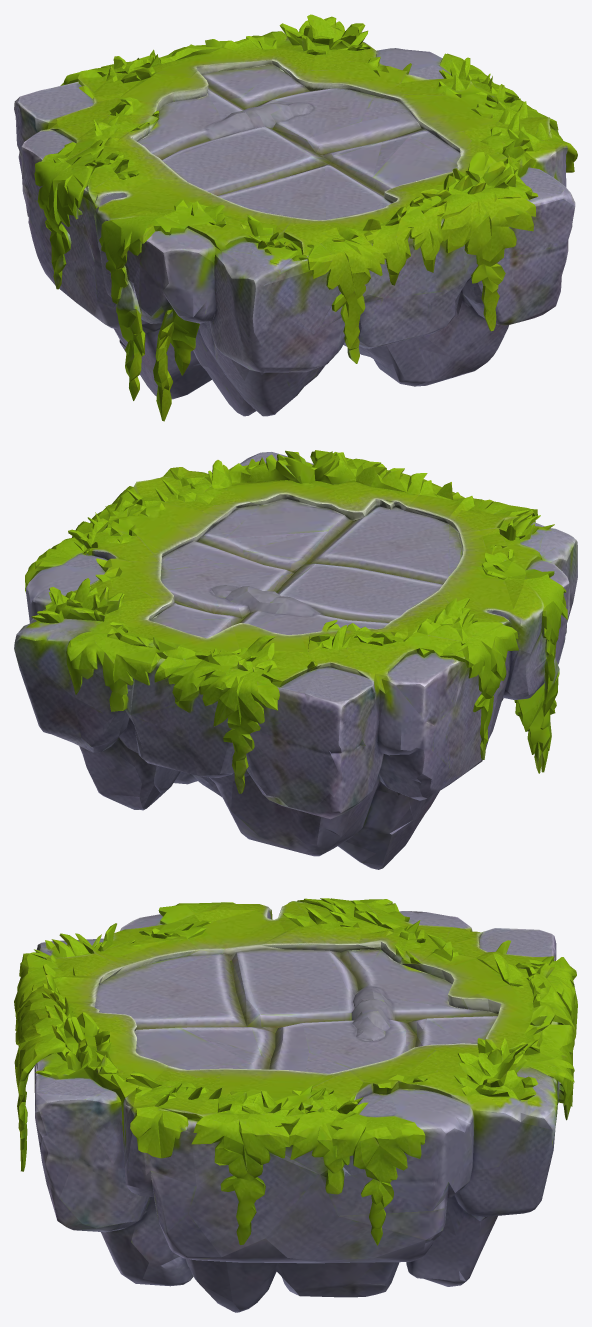
Rendered from floating_rock_island.glb.
3 views of the same model, one above another, from view 1: azimuth 30°, elevation 25°; view 2: azimuth 150°, elevation 25°; view 3: azimuth 270°, elevation 25° (orthographic). The views are drawn at different scales.
Parts seen in each view (by area): view 1: output_unwrapped; view 2: output_unwrapped; view 3: output_unwrapped.
Part boxes in pixels (x1,y1,x2,y2): output_unwrapped: (14,14,577,421); output_unwrapped: (14,450,577,869); output_unwrapped: (14,898,577,1312).
Size of what is drawn, in the model's own units: 1.68 by 1 by 1.69.
1 material, 1 textured.
